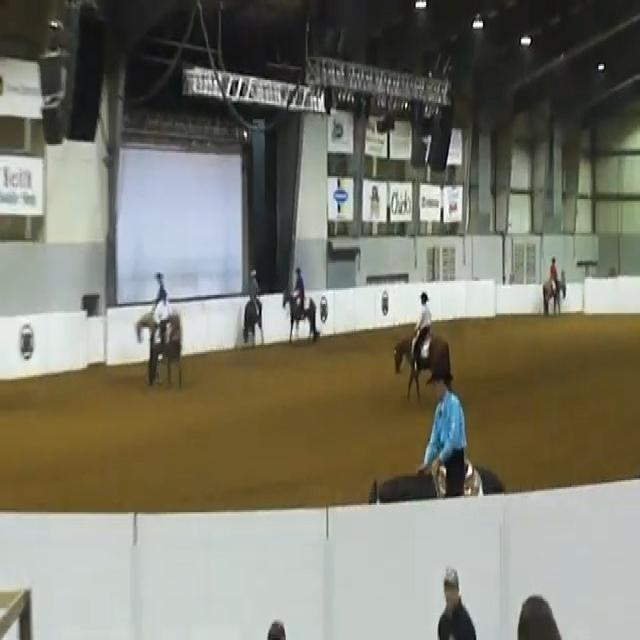horse: (385, 299, 453, 396), (279, 272, 326, 346), (146, 319, 188, 384), (238, 268, 266, 355), (542, 252, 572, 322)
